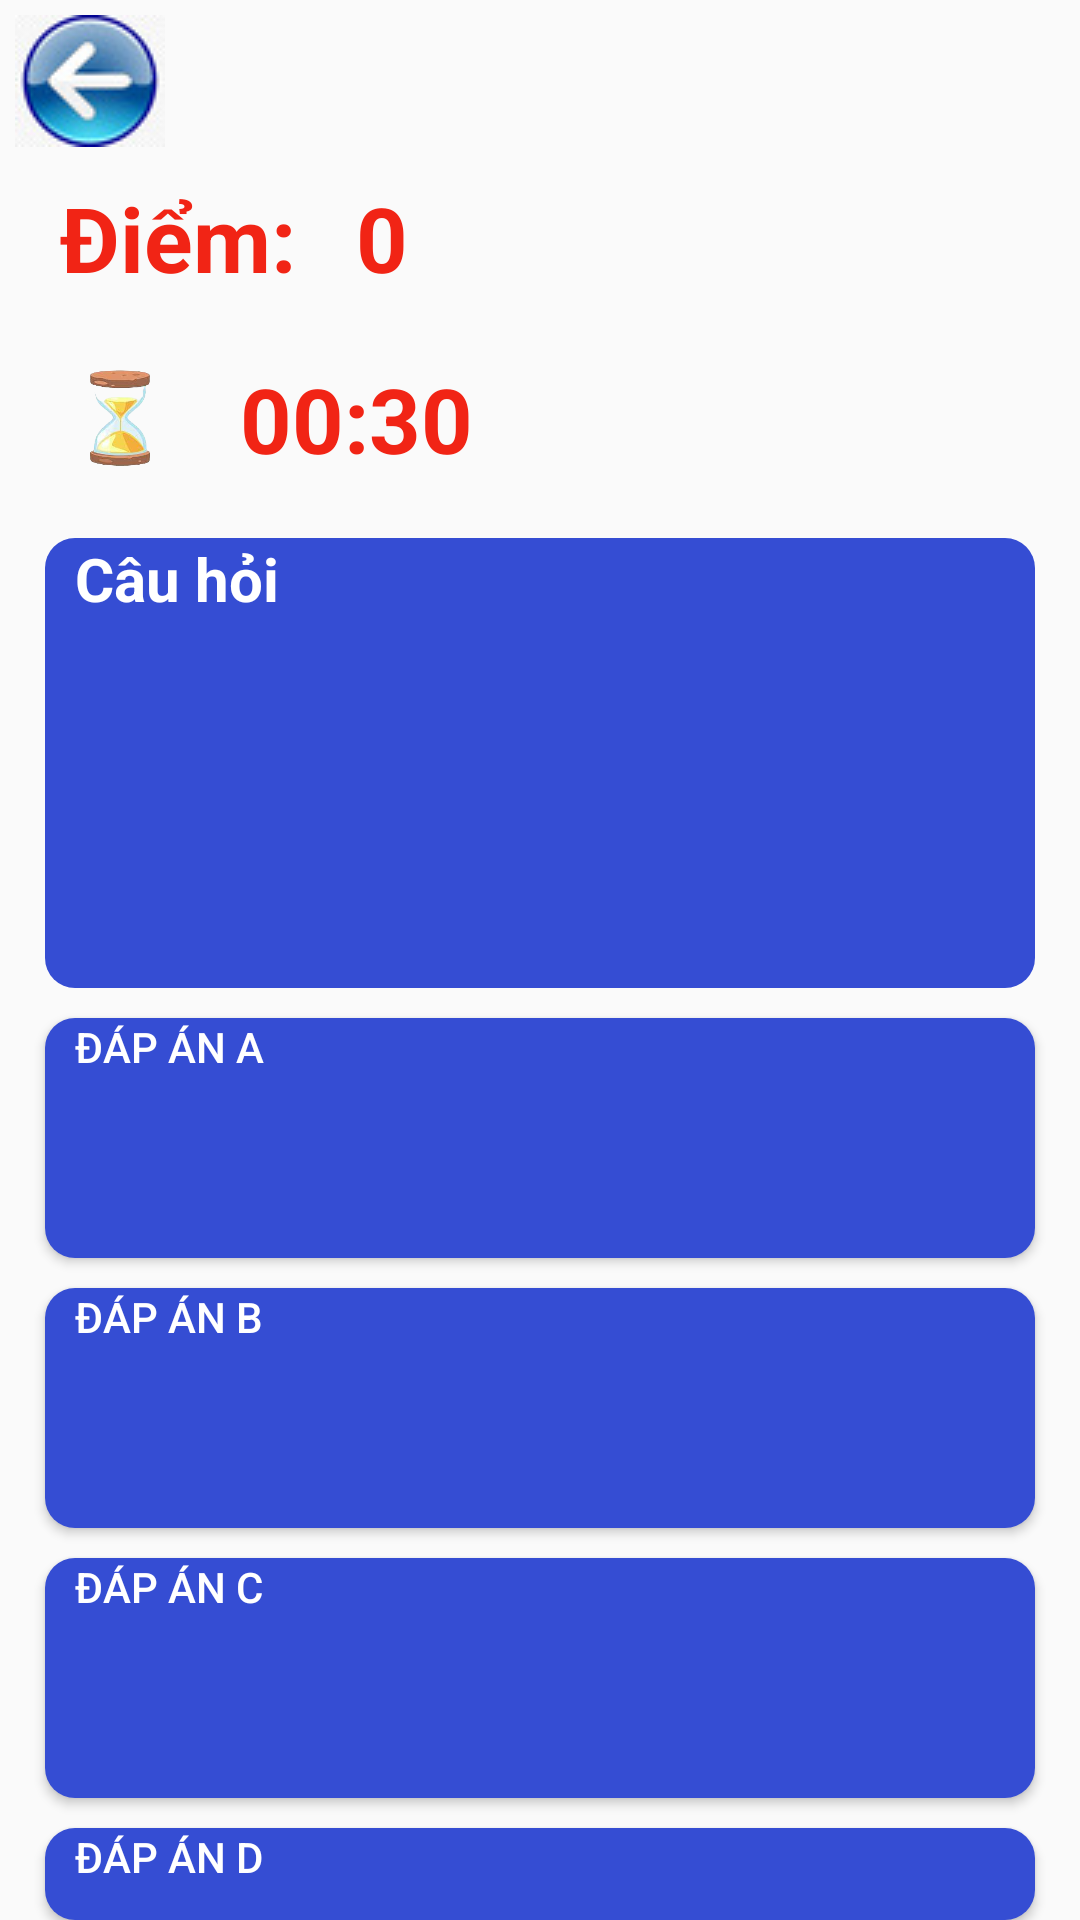

Locate icon controls on the screen. Image size 1080px×1920px, boxes as bbox=(x1, y1, x2, y2).
donghocat: bbox=(90, 370, 150, 466)
quaylai: bbox=(15, 15, 159, 147)
